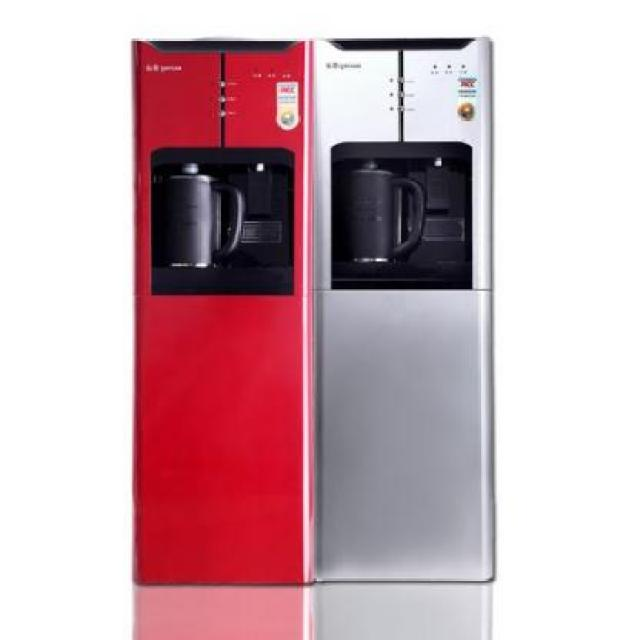cooler: (309, 28, 500, 584), (132, 29, 312, 592)
